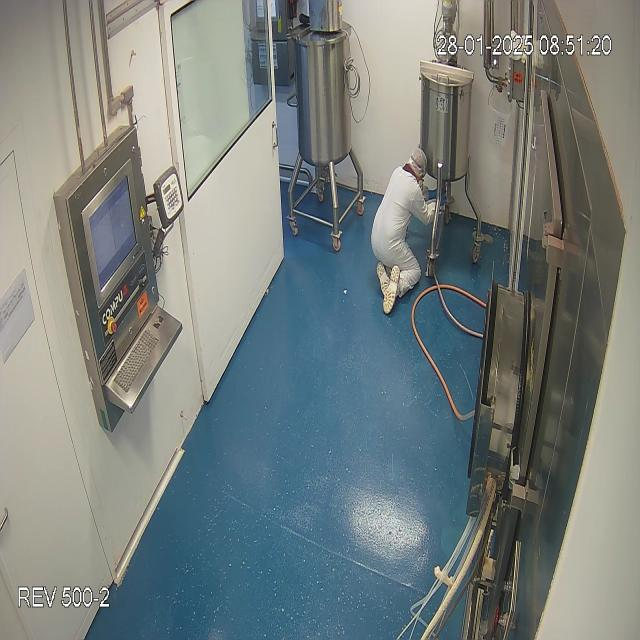bota: (376, 262, 402, 316)
pessoa: (371, 148, 447, 316)
touca: (409, 148, 428, 182)
